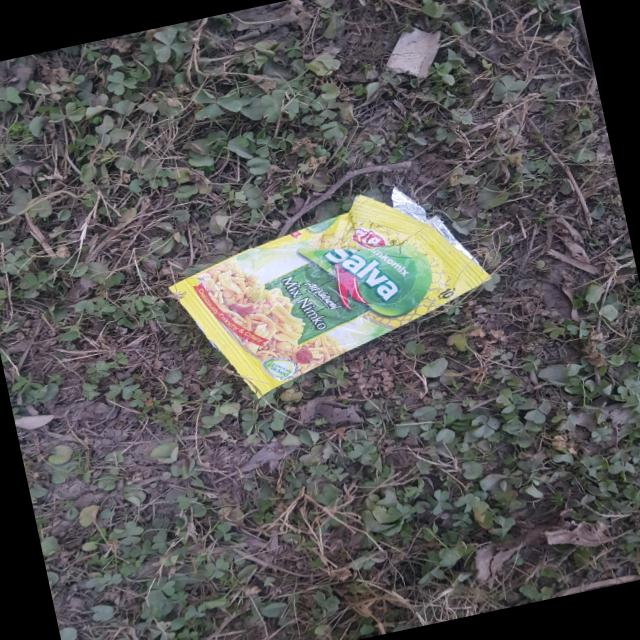electronic: (149, 166, 522, 417)
